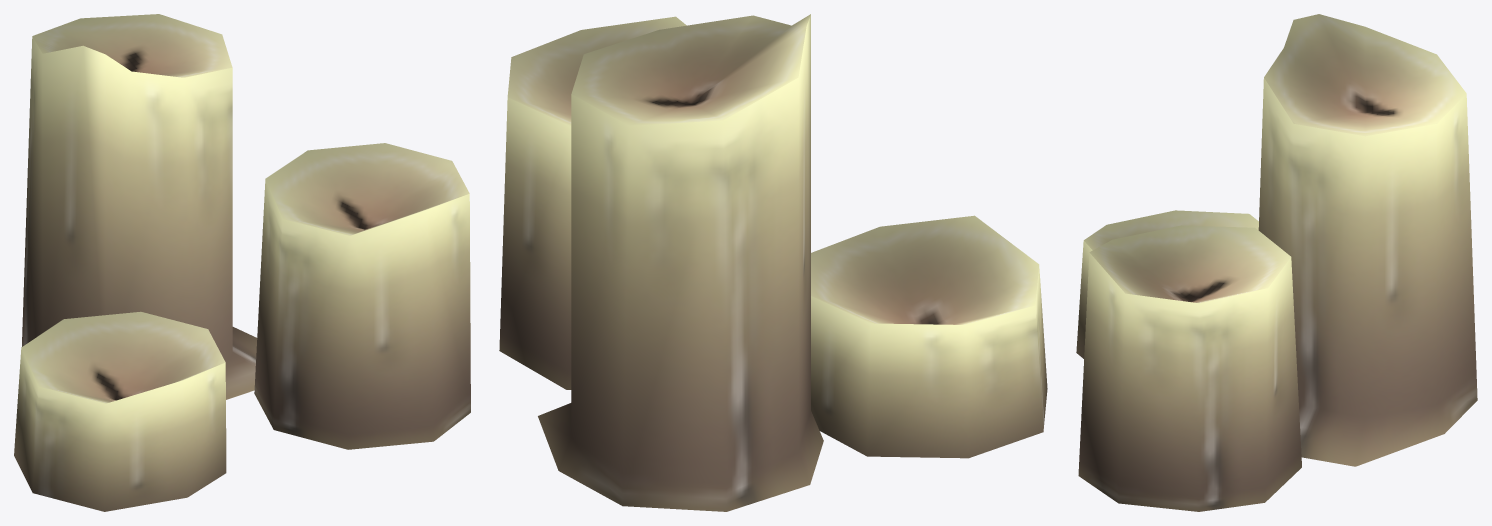
File: GY_lazhu002.fbx
3 renders of one model, left to right at view 1: azimuth 30°, elevation 25°; view 2: azimuth 150°, elevation 25°; view 3: azimuth 270°, elevation 25°, orthographic. The views are drawn at different scales.
Parts seen in each view (by area): view 1: GY_lazhu002; view 2: GY_lazhu002; view 3: GY_lazhu002.
Boxes of the visible parts, x1,y1,x2,y2 form: GY_lazhu002: (14,14,470,511); GY_lazhu002: (499,14,1047,511); GY_lazhu002: (1076,14,1477,511).
Bounding box in the file's own units: 32.9 × 26.3 × 26.93.
